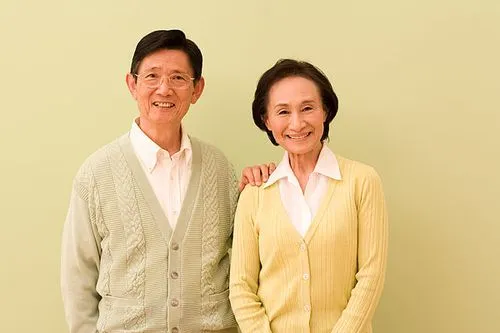withoutmask: (112, 25, 215, 140), (248, 55, 344, 164)
